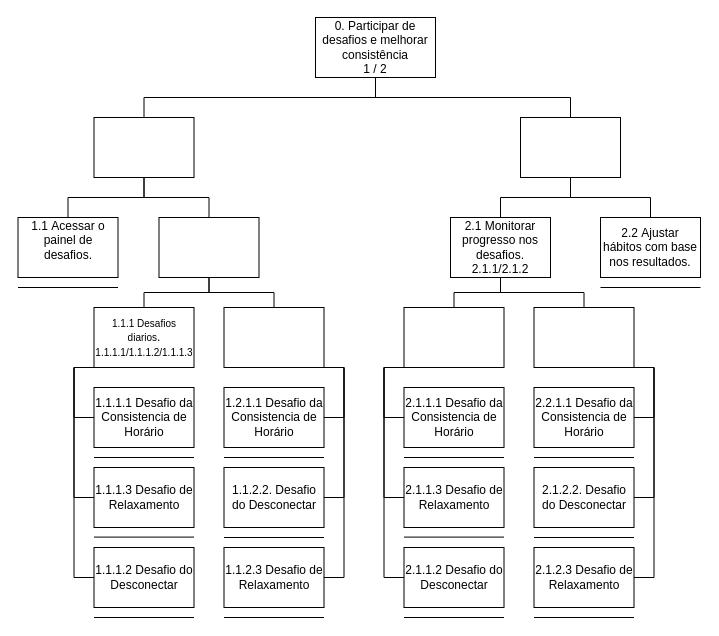
Image size: 719x636. Some labels were removed from this diagram. The shapes that lost their labels are listed below. From the top down, each one's centre as x and y in pixels, then its label:
the point at 143,147: 1. Participar de desafios diários e semanais 1.1>1.2
the point at 570,147: 2. Ajustar hábitos com base no progresso 2.1/2.2
the point at 208,247: 1.2 Escolher o desafio desejado. 1.1.1/1.1.2
the point at 273,337: 1.1.2 Desafios semanais. 1.1.2.1/1.1.2.2/1.1.2.3
the point at 453,337: 2.1.1 Desafios diarios . 2.1.1.1/2.1.1.2/2.1.1.3
the point at 583,337: 2.1.2 Desafios semanais. 2.1.2.1/2.1.2.2/2.1.2.3
